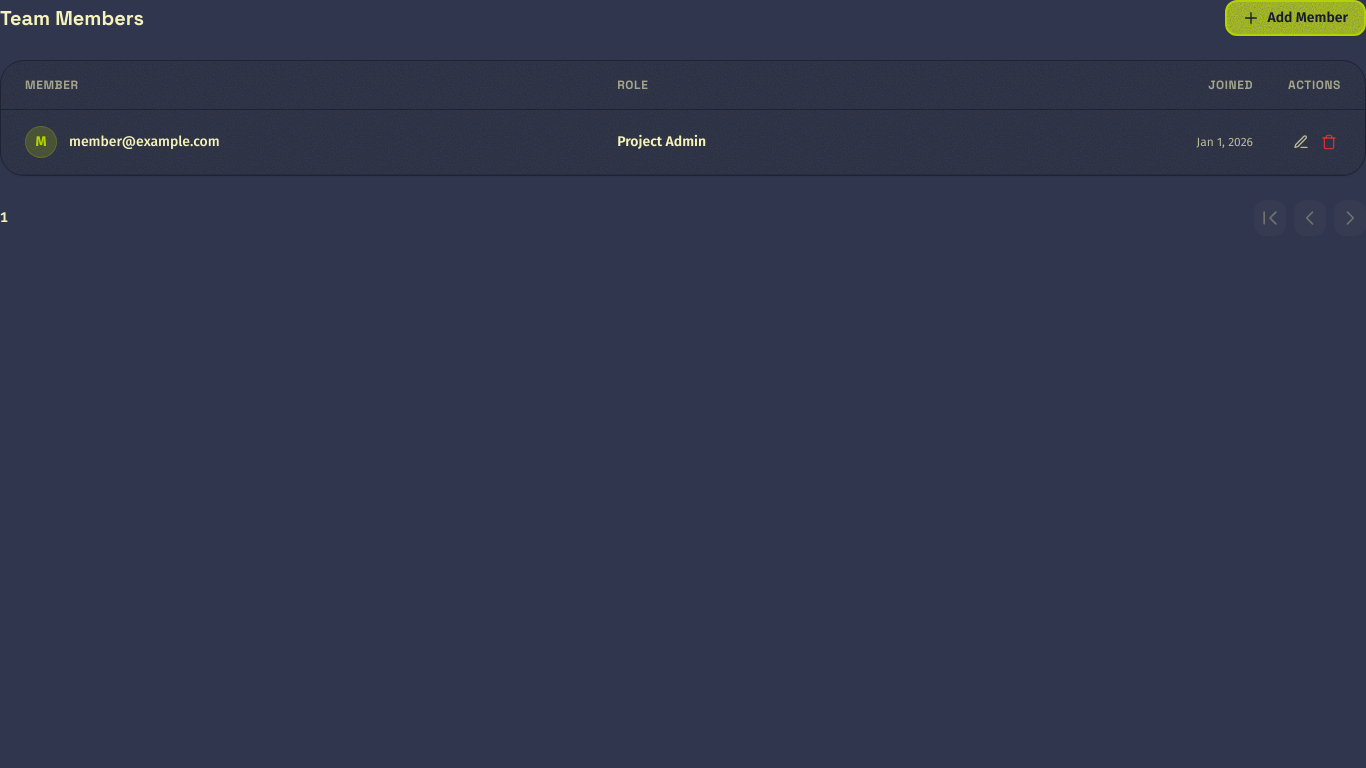
Test: selects a username suggestion and adds the matching email with an explicit role
Later steps or results of the test are not shown.
Click the button "Add Member".
click(1296, 18)  # box top-left (1225, 0), bottom-right (1365, 36)
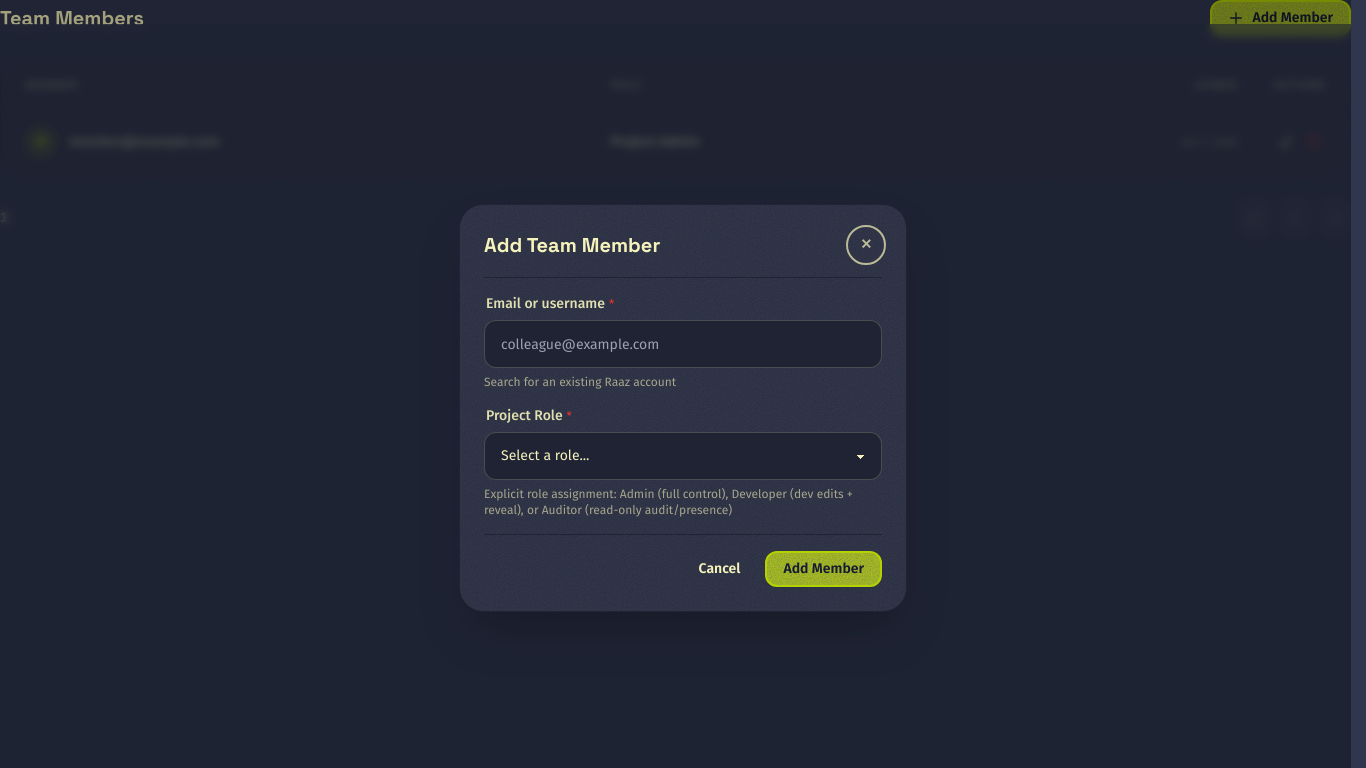
Type "ali" into the field labelled "Email or username *".
click(683, 344); type("ali")  # box top-left (484, 320), bottom-right (882, 368)
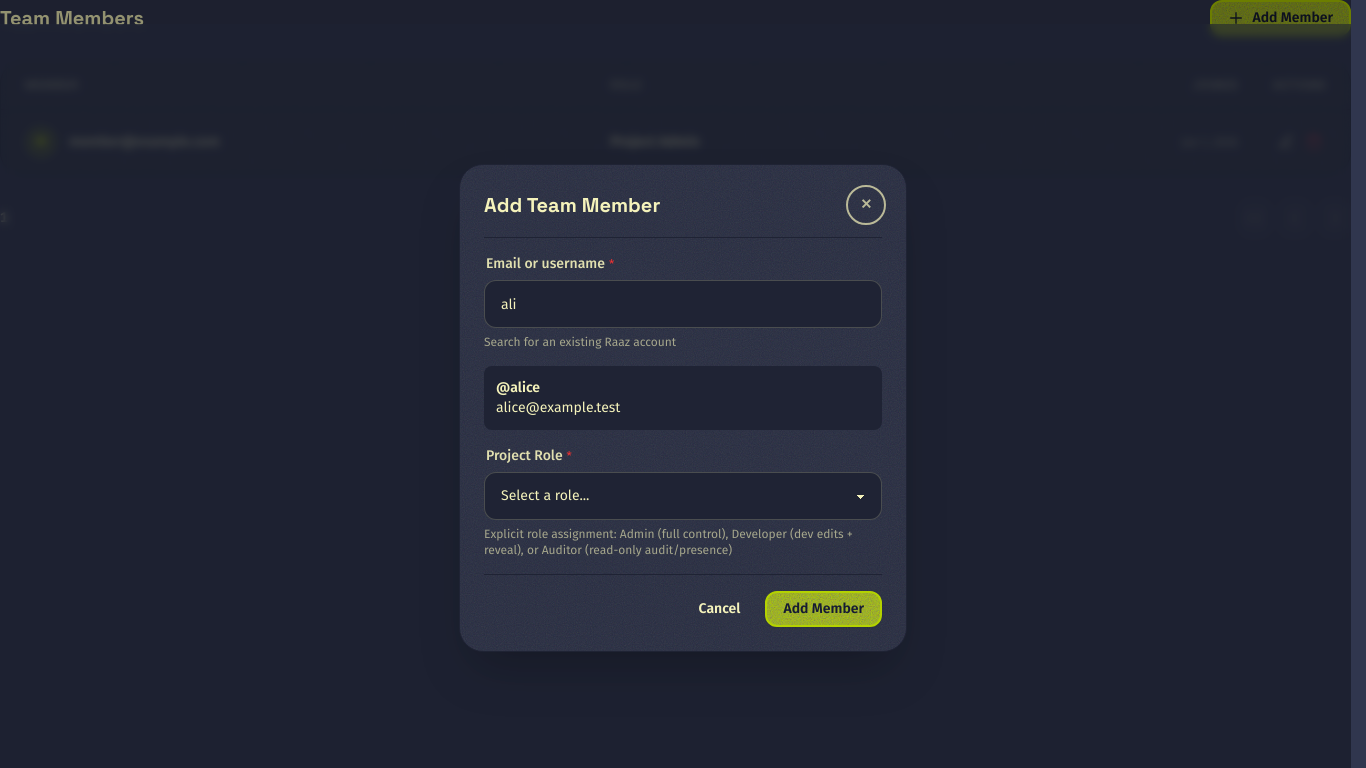
Click the button "@alice alice@example.test".
click(558, 408)  # box top-left (484, 366), bottom-right (882, 430)
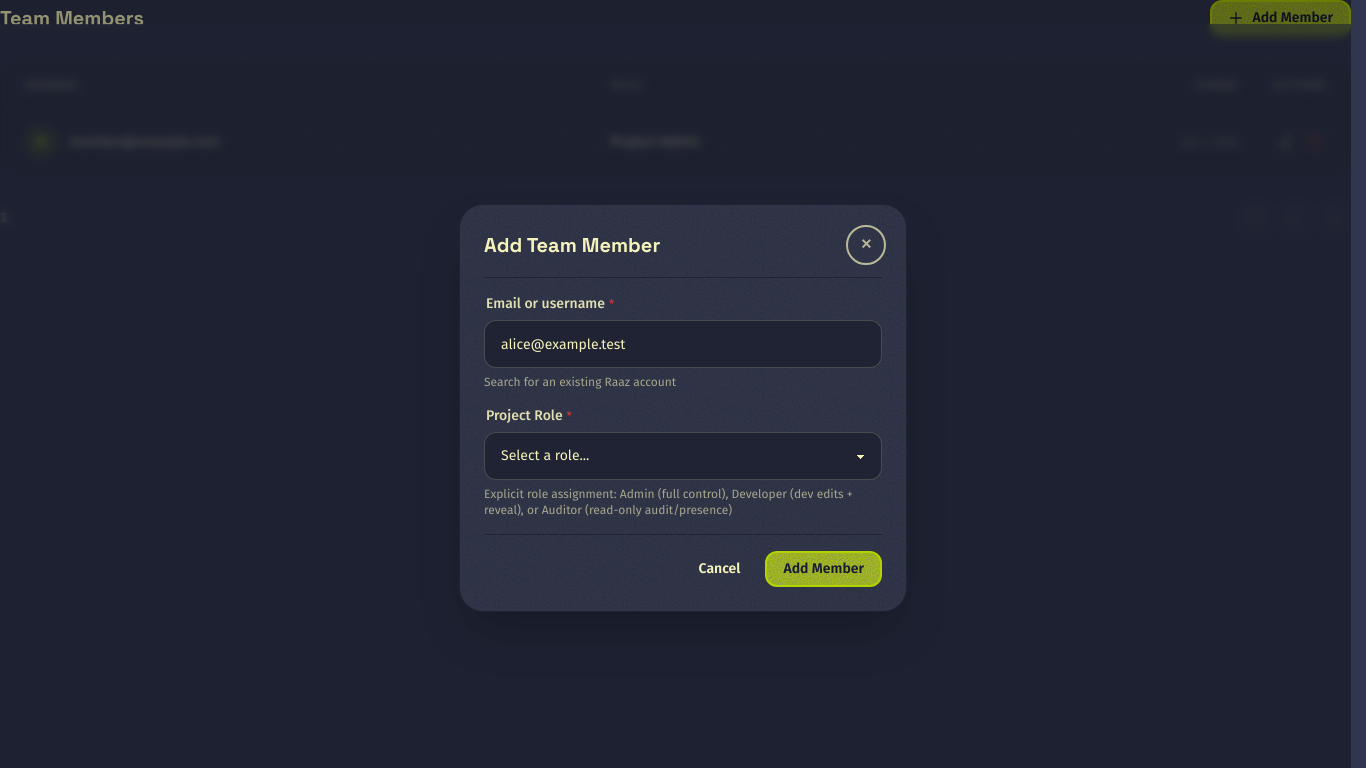
Now the field labelled "Email or username *" holds "alice@example.test", box top-left (484, 320), bottom-right (882, 368)
